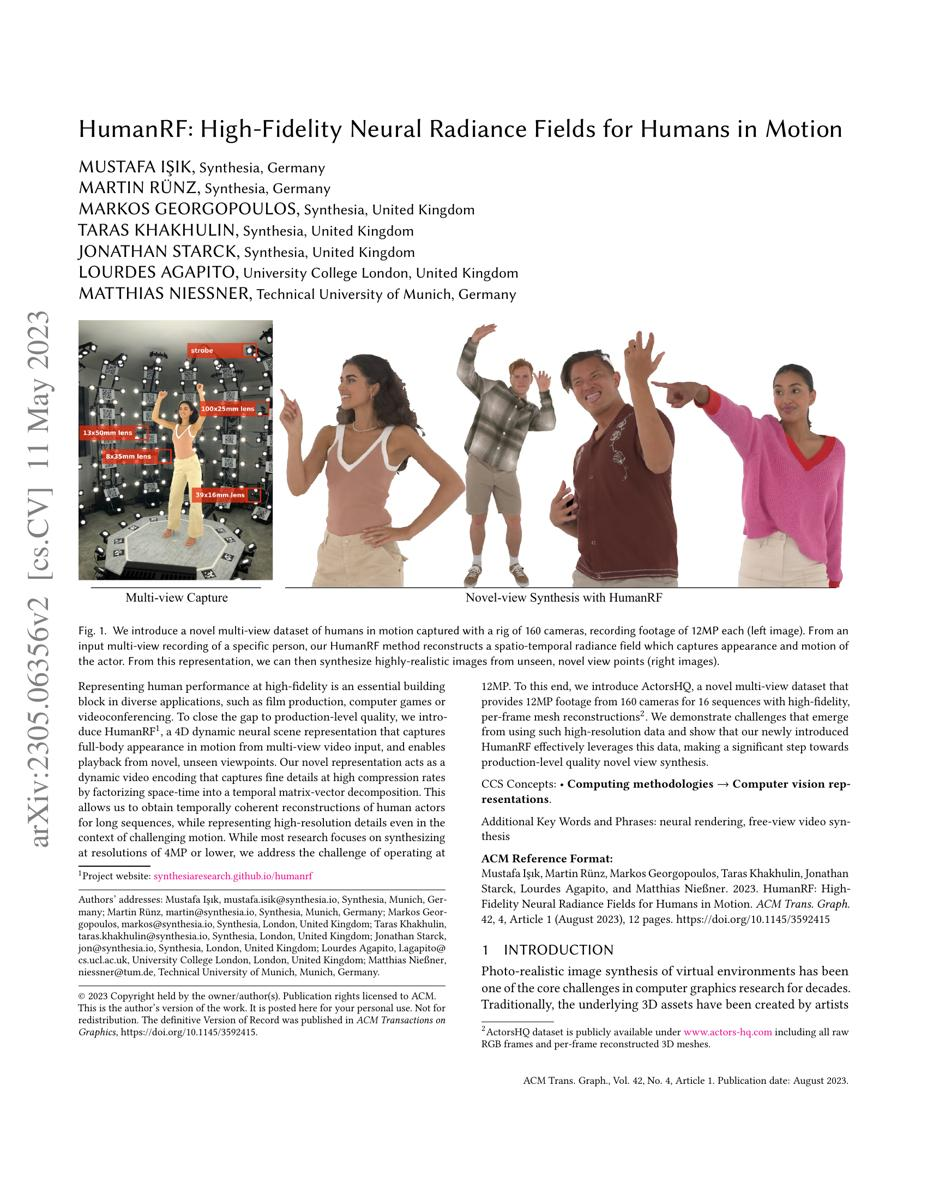figure: (75, 317, 853, 671)
text: (475, 677, 855, 1016), (73, 677, 450, 863), (73, 113, 847, 146)
